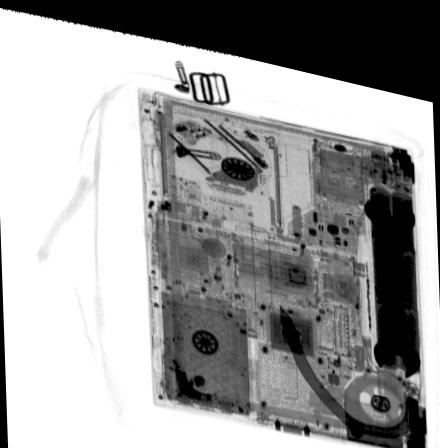Wrench: (365, 171, 420, 357)
